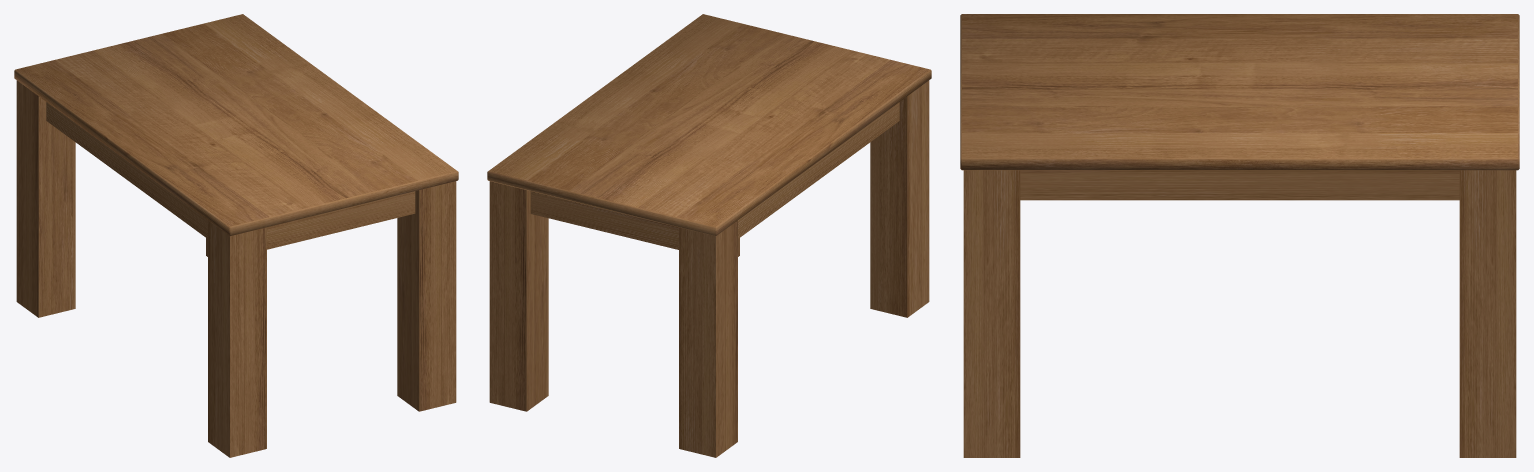
File: Dining_Table-1.fbx
The picture shows the model from 3 angles, left to right: view 1: azimuth 30°, elevation 25°; view 2: azimuth 150°, elevation 25°; view 3: azimuth 270°, elevation 25°; orthographic projection. The views are drawn at different scales.
Visible parts, largest first — view 1: DiningTable_Top, DiningTable_Leg1, DiningTable_Leg2, DiningTable_Leg3, DiningTable_Supports; view 2: DiningTable_Top, DiningTable_Leg3, DiningTable_Leg4, DiningTable_Leg1, DiningTable_Supports; view 3: DiningTable_Top, DiningTable_Leg2, DiningTable_Leg4, DiningTable_Supports.
Part boxes in pixels (<box>): DiningTable_Top: <box>14,14,458,236</box>; DiningTable_Leg1: <box>208,220,266,457</box>; DiningTable_Leg2: <box>397,181,456,411</box>; DiningTable_Leg3: <box>16,80,75,317</box>; DiningTable_Supports: <box>46,102,415,249</box>; DiningTable_Top: <box>487,14,931,236</box>; DiningTable_Leg3: <box>679,220,737,457</box>; DiningTable_Leg4: <box>489,181,548,411</box>; DiningTable_Leg1: <box>870,80,929,317</box>; DiningTable_Supports: <box>530,102,899,249</box>; DiningTable_Top: <box>960,14,1519,170</box>; DiningTable_Leg2: <box>963,170,1020,457</box>; DiningTable_Leg4: <box>1459,170,1516,457</box>; DiningTable_Supports: <box>1020,170,1459,200</box>.
Bounding box in the file's own units: 79.8 × 76.99 × 130.
Materials: 1 (1 with a texture image).
